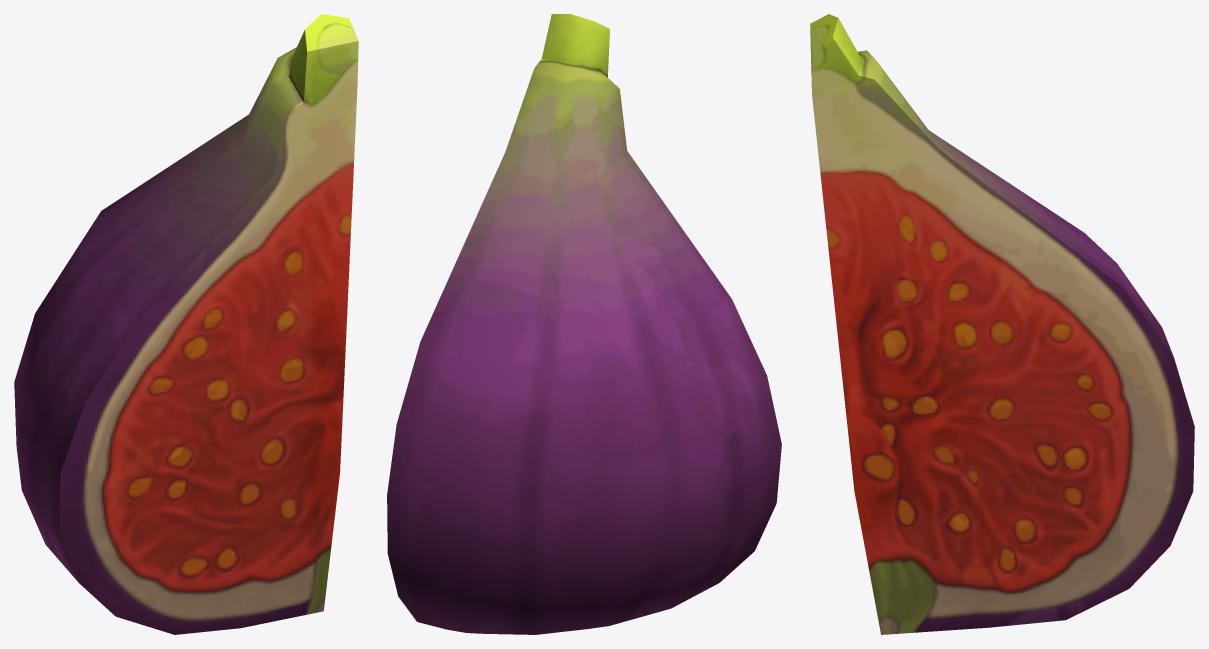
File: SM_FigSliceC.fbx
3 views of the same model, side by side, from view 1: azimuth 30°, elevation 25°; view 2: azimuth 150°, elevation 25°; view 3: azimuth 270°, elevation 25° (orthographic). The views are drawn at different scales.
Parts seen in each view (by area): view 1: SM_FigSliceC; view 2: SM_FigSliceC; view 3: SM_FigSliceC.
Boxes of the visible parts, x1,y1,x2,y2 form: SM_FigSliceC: [14, 14, 358, 634]; SM_FigSliceC: [387, 14, 781, 634]; SM_FigSliceC: [810, 14, 1194, 634].
Bounding box in the file's own units: 5.29 × 11.41 × 6.57.
